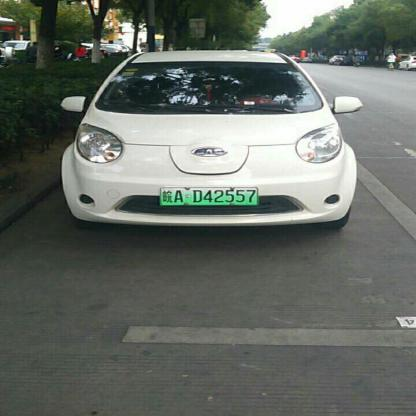lp: (159, 186, 259, 206)
